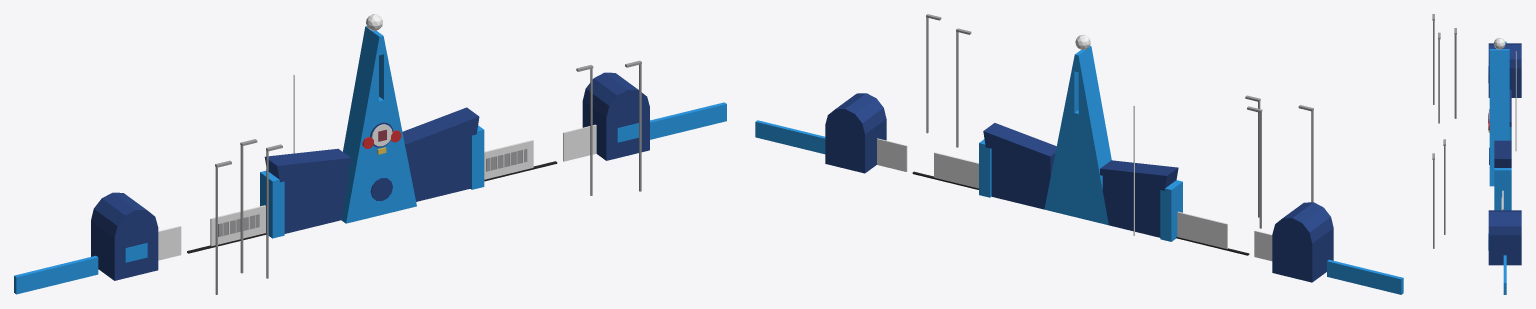
File: aau_gate.glb
The picture shows the model from 3 angles, left to right: view 1: azimuth 30°, elevation 25°; view 2: azimuth 150°, elevation 25°; view 3: azimuth 270°, elevation 25°; orthographic projection. The views are drawn at different scales.
Parts seen in each view (by area): view 1: Spire, Wall, Wall.001, Gatehouse, Gatehouse.001, GatehouseArch, GatehouseArch.001, RoofCap.001, RoofCap, SideWall, SideWall.001, Pier (+8 smaller); view 2: Spire, Wall.001, Wall, Gatehouse, Gatehouse.001, GatehouseArch.001, GatehouseArch, RoofCap.001, RoofCap, SideWall, GatePanel, SideWall.001 (+5 smaller); view 3: Spire, Gatehouse.001, GatehouseArch.001, Pier.001, RoofCap.001, GatehouseArch, Gatehouse, LampPole.001, Flagpole, LampPole.003, LampPole.004, LampPole (+4 smaller).
Boxes of the visible parts, x1,y1,x2,y2 form: Spire: (341,26,416,223); Wall: (284,166,347,233); Wall.001: (406,136,470,201); Gatehouse: (91,221,158,280); Gatehouse.001: (582,101,649,160); GatehouseArch: (91,192,157,237); GatehouseArch.001: (582,72,649,123); RoofCap.001: (402,107,479,151); RoofCap: (264,148,350,182); SideWall: (14,255,98,294); SideWall.001: (650,102,726,139); Pier: (260,170,284,238); Spire: (1044,45,1111,225); Wall.001: (991,149,1053,209); Wall: (1102,176,1160,237); Gatehouse: (1272,228,1333,282); Gatehouse.001: (825,119,886,173); GatehouseArch.001: (825,93,886,150); GatehouseArch: (1272,202,1333,257); RoofCap.001: (983,123,1056,162); RoofCap: (1100,160,1178,190); SideWall: (1327,259,1403,294); GatePanel: (1177,211,1227,248); SideWall.001: (755,120,825,154); Spire: (1489,49,1509,186); Gatehouse.001: (1488,235,1521,265); GatehouseArch.001: (1488,210,1521,235); Pier.001: (1494,168,1511,210); RoofCap.001: (1494,140,1511,167); GatehouseArch: (1488,43,1521,68); Gatehouse: (1488,68,1521,97); LampPole.001: (1454,34,1456,118); Flagpole: (1515,51,1516,151); LampPole.003: (1444,145,1445,234); LampPole.004: (1433,159,1434,248); LampPole: (1433,20,1434,104).
Bounding box in the file's own units: 52 × 13.65 × 8.13.
